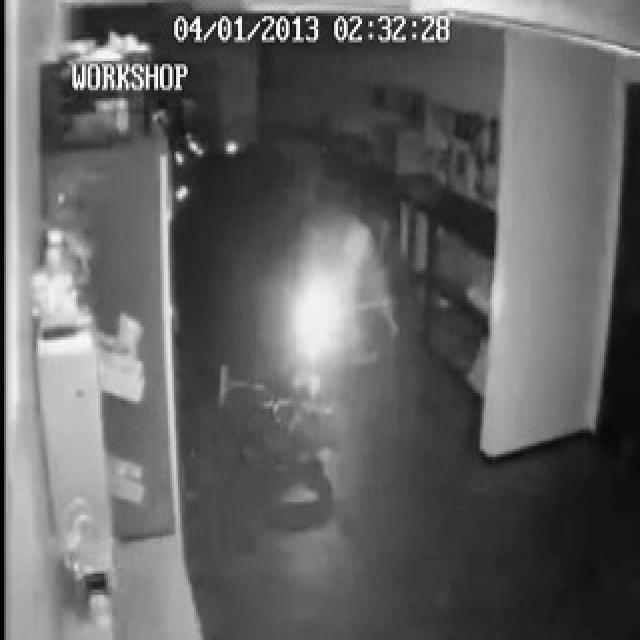thief: (295, 203, 382, 391)
